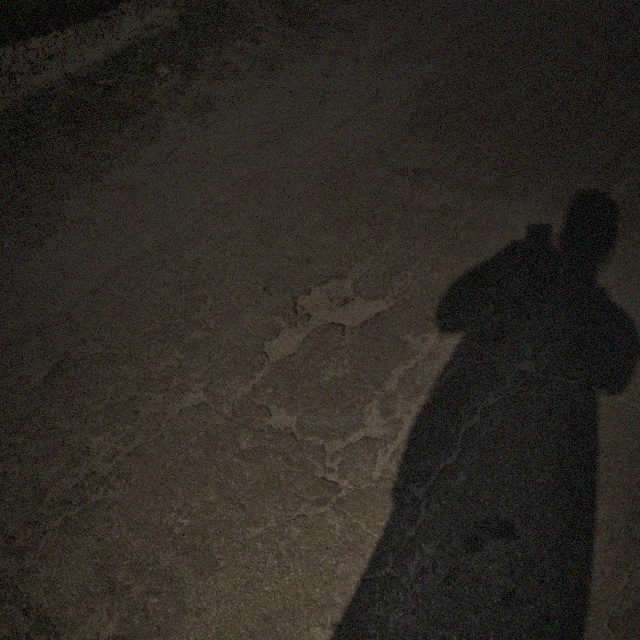pothole: (260, 262, 394, 363), (263, 402, 301, 434)
